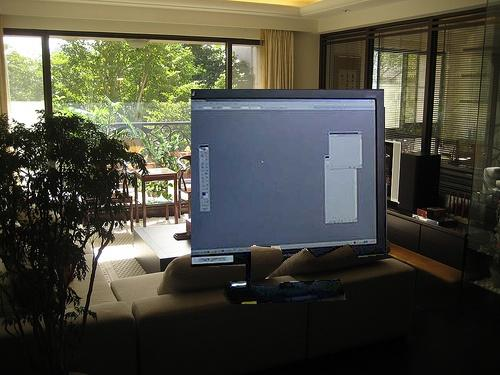tampered: (192, 90, 387, 304)
